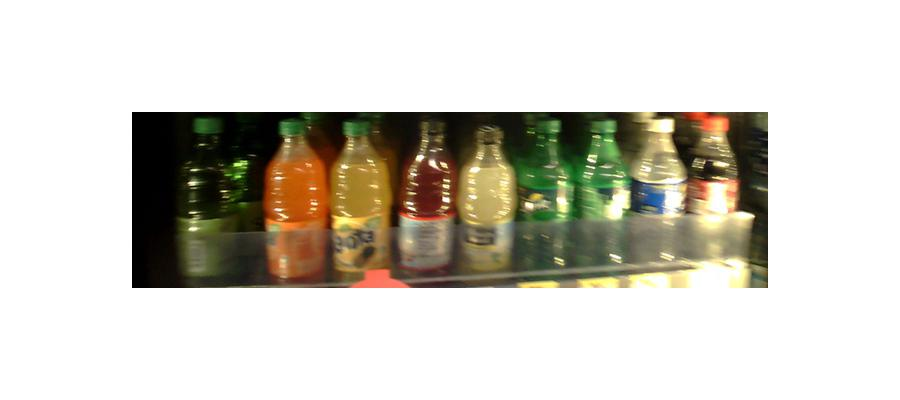bottle: (173, 129, 249, 285), (265, 113, 328, 285), (330, 116, 393, 280), (397, 119, 456, 279), (683, 118, 740, 270), (575, 113, 630, 269), (460, 119, 514, 277), (631, 116, 686, 266), (518, 115, 569, 273)
